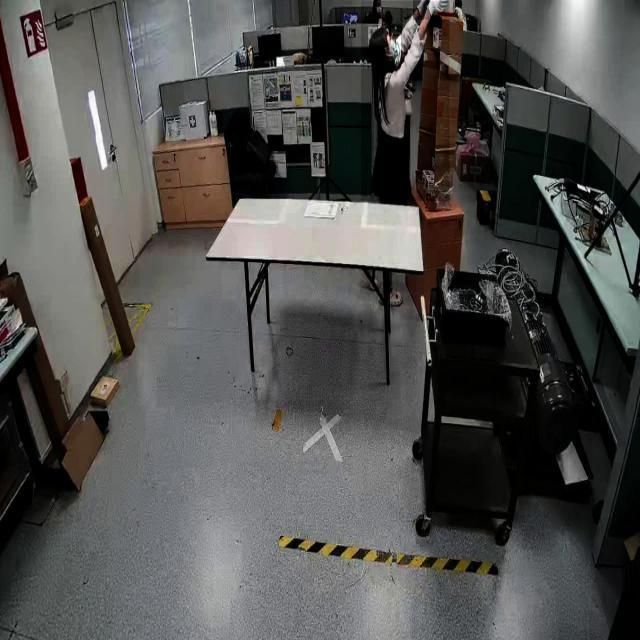gloves: (425, 0, 442, 28), (413, 0, 429, 20)
